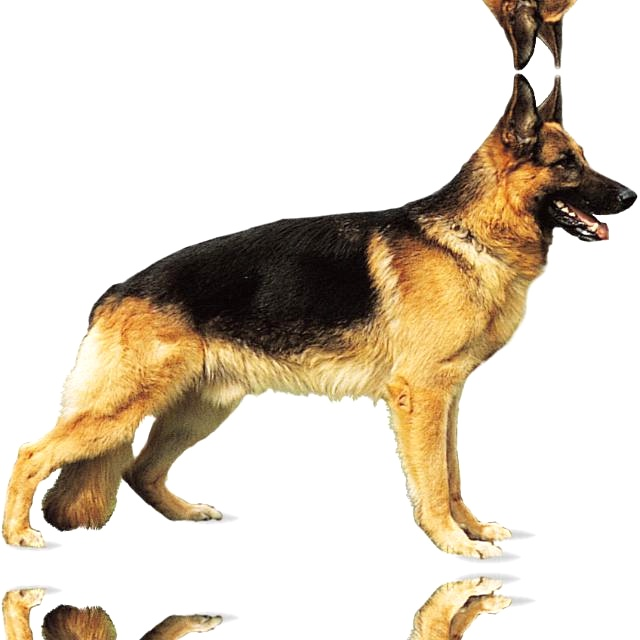dog: (0, 71, 639, 558), (0, 0, 639, 70), (0, 576, 639, 640)
